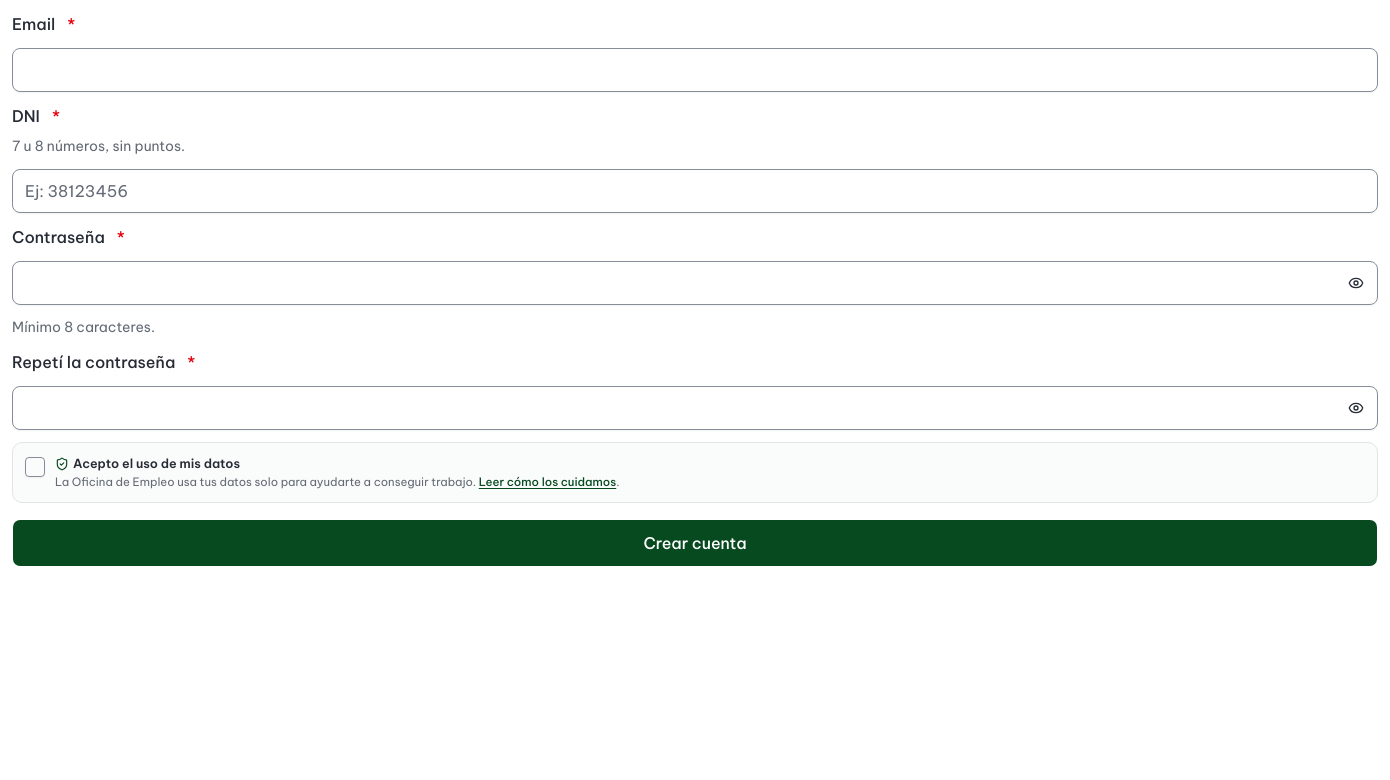
Test: asks for at least 8 characters
This screenshot has width=1390, height=780.
Type "persona@ejemplo.com" into the field labelled "Email *" at point(695, 70), box [12,48,1378,92]
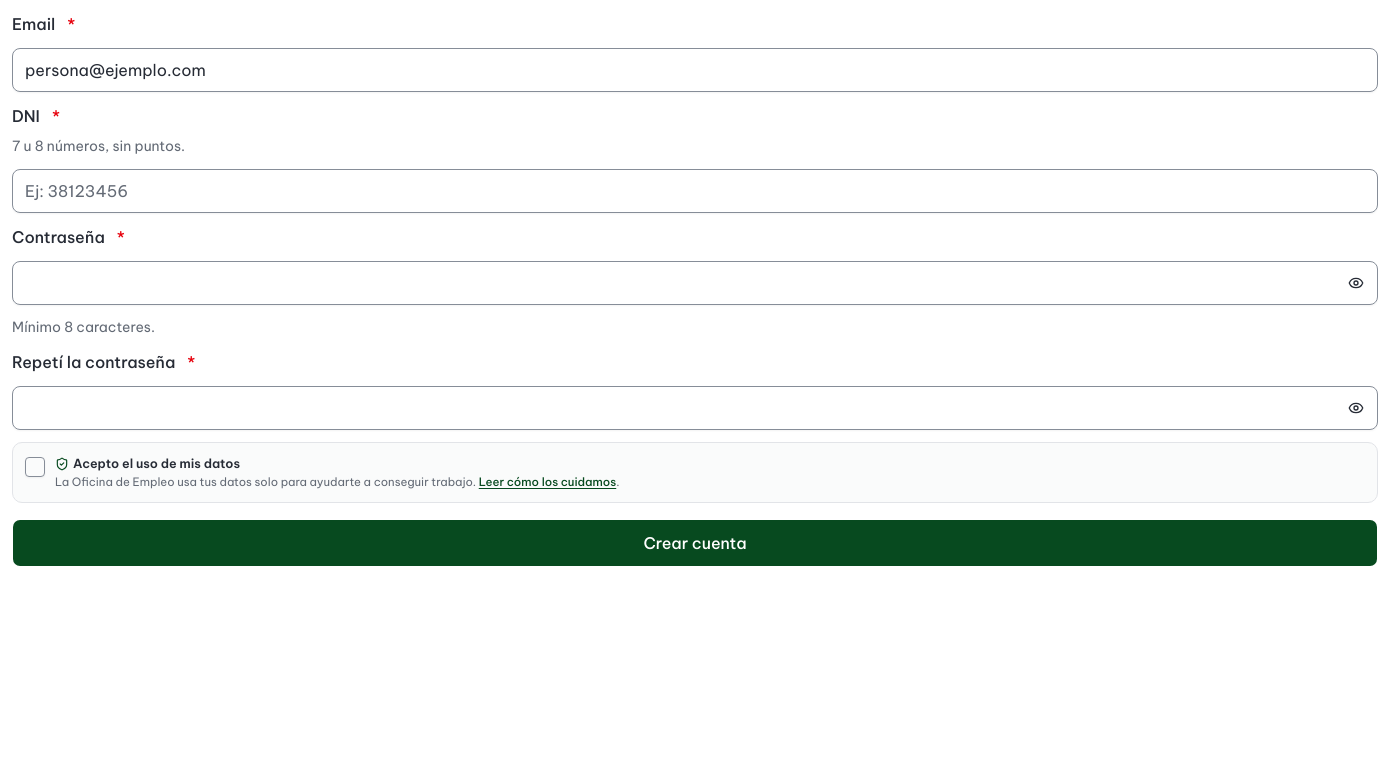
Type "38123456" into the field labelled "DNI *" at point(695, 191), box [12,169,1378,213]
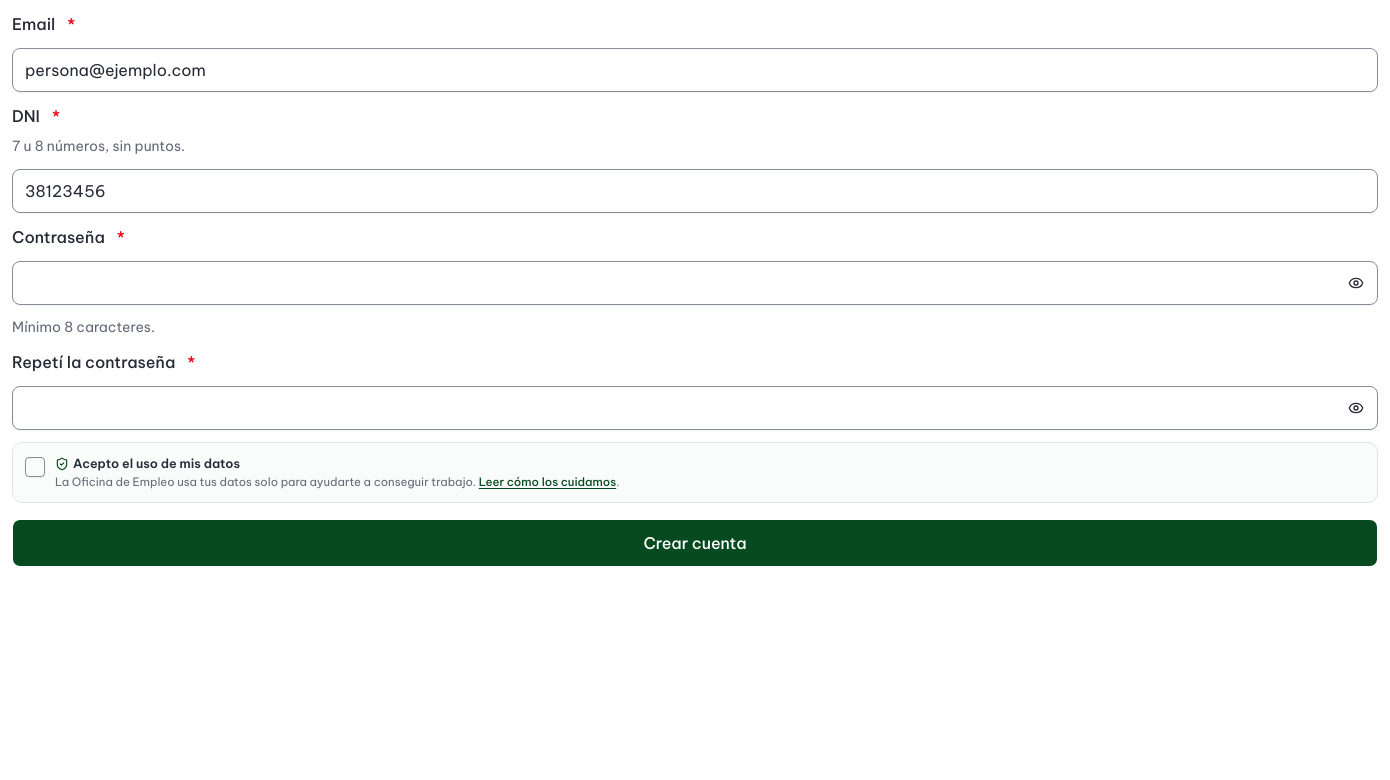
Type "corta" into the password field labelled "Contraseña *" at point(695, 283), box [12,261,1378,305]
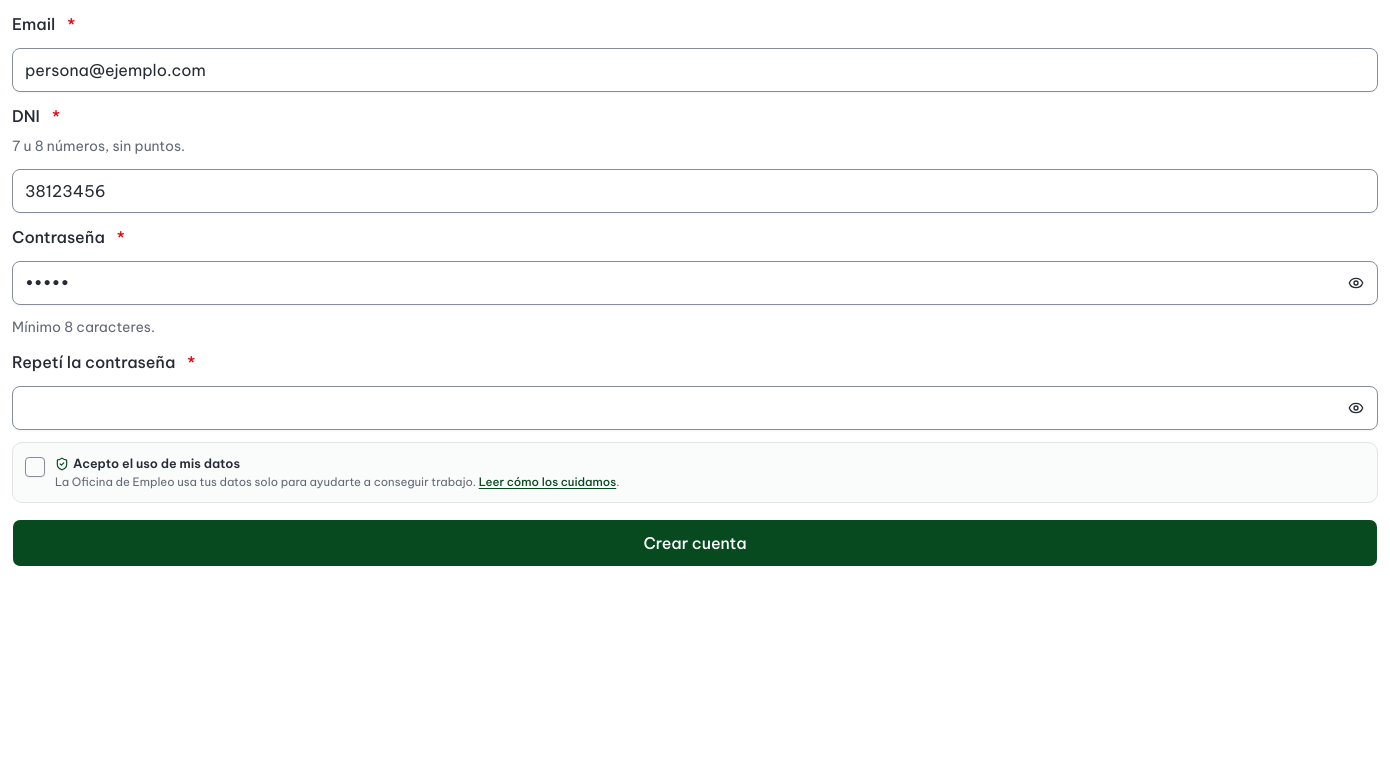
Type "corta" into the password field labelled "Repetí la contraseña *" at point(695, 408), box [12,386,1378,430]
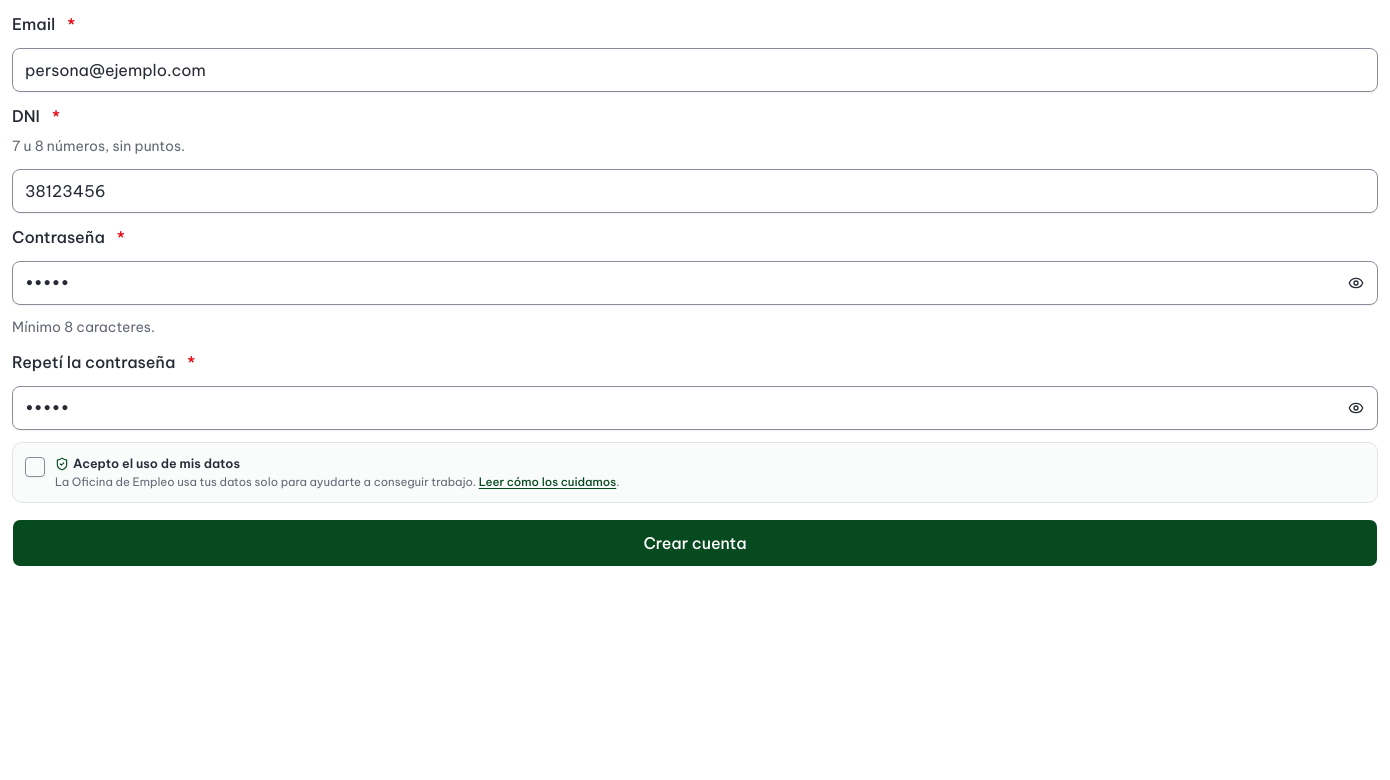
Click the checkbox named "Acepto el uso de mis datos" at point(35, 467), box [25,457,45,477]
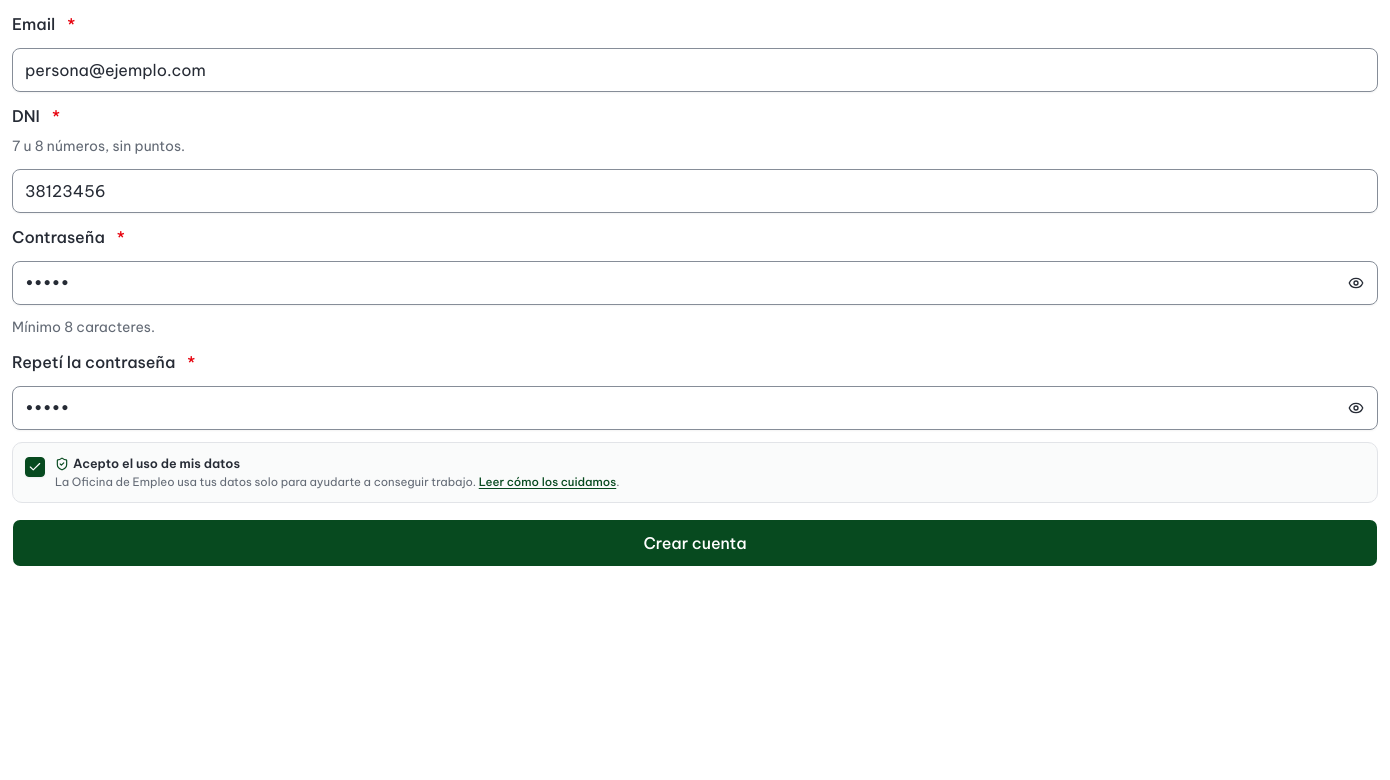
Click the button "Crear cuenta" at point(695, 543), box [12,519,1378,567]
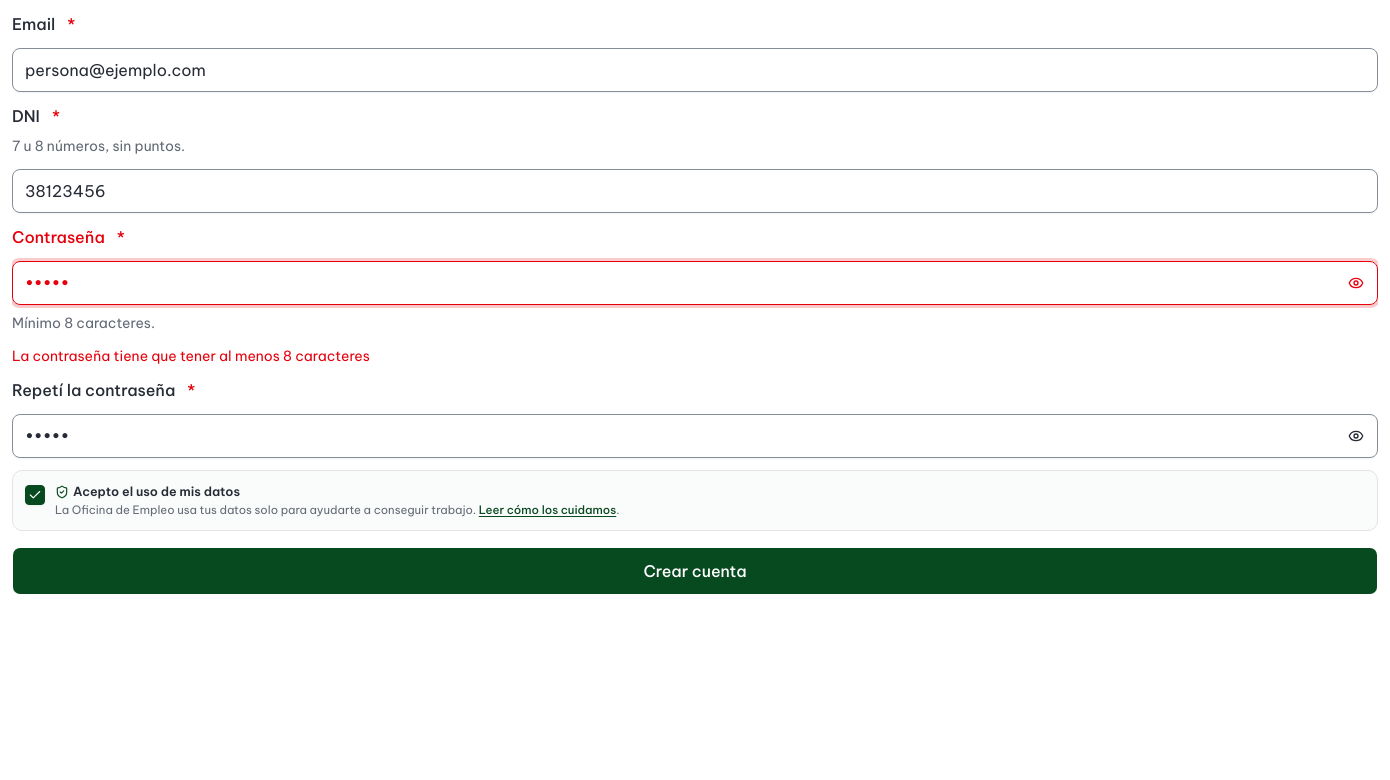
Check: the text "La contraseña tiene que tener al menos 8 caracteres" is shown, box [12,347,370,365]
